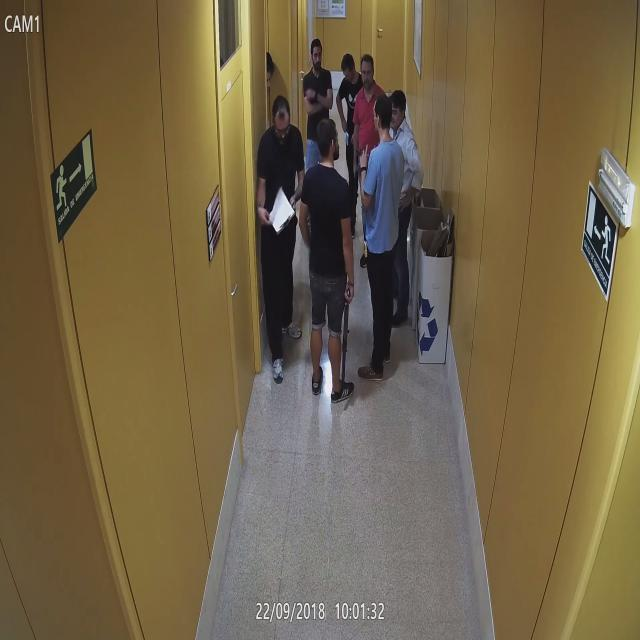Gun: (354, 146, 364, 162)
